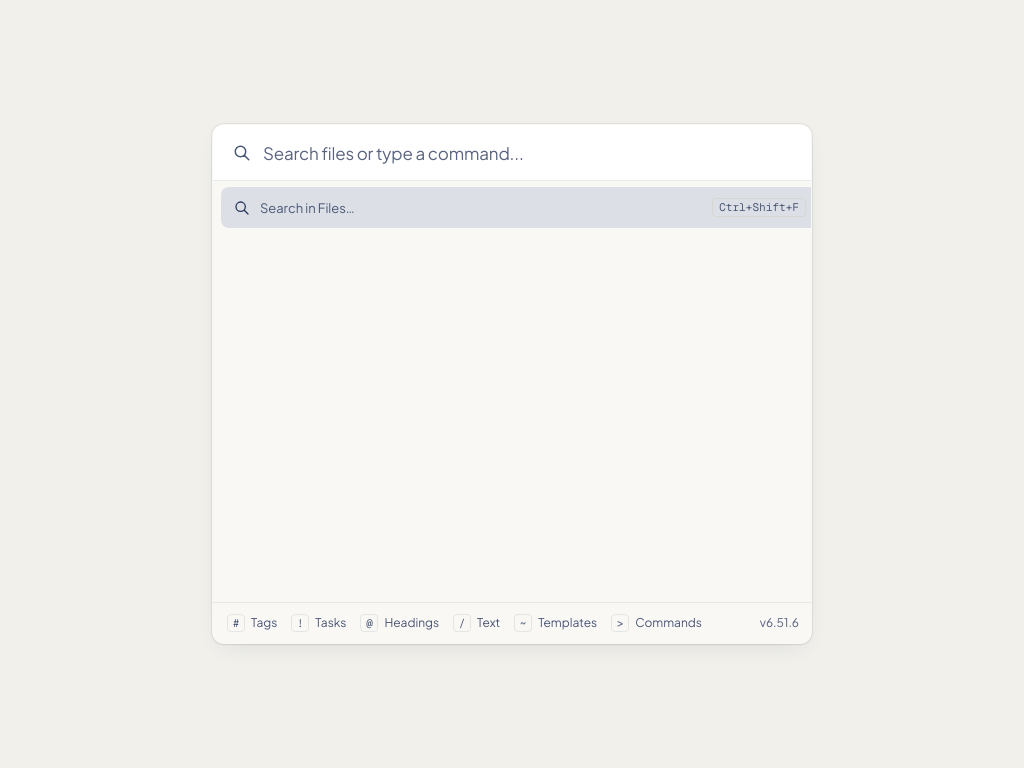
Scenario: CommandPalette / note text scope › asks for 2 characters and doesn't search shorter queries
The width and height of the screenshot is (1024, 768).
Press k
Type "/a" into the dropdown. click: point(531, 152)
box: [263,125,799,180]
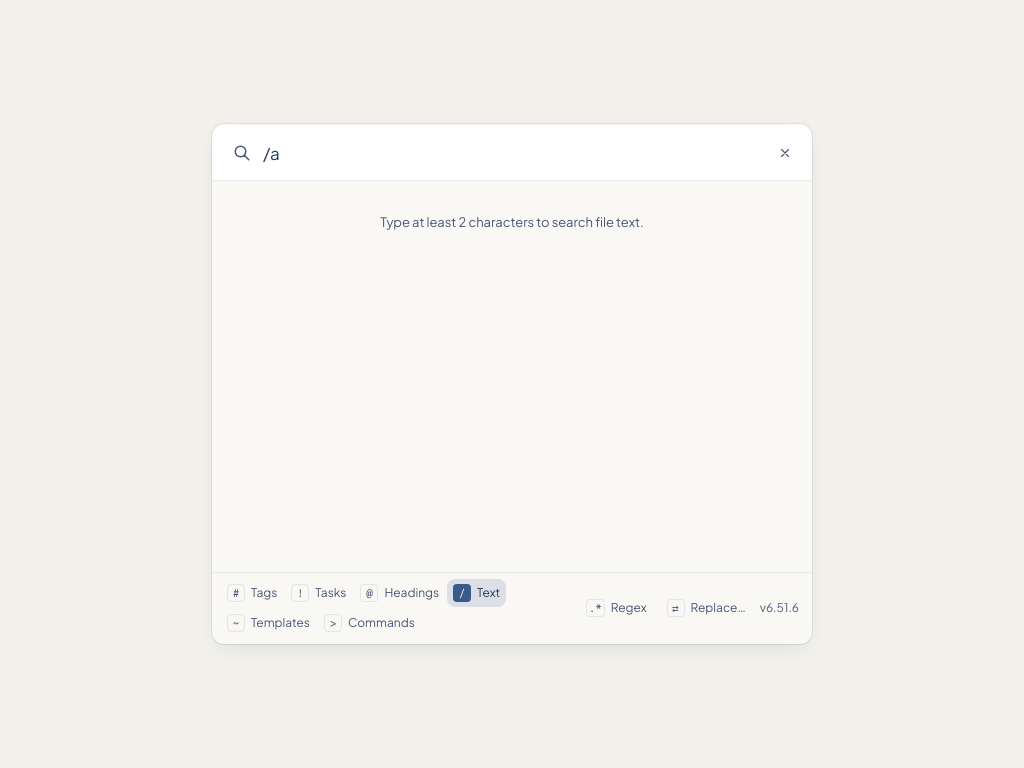
expect the text "Type at least 2 characters to search file text." is shown: met, box [380,214,644,230]
